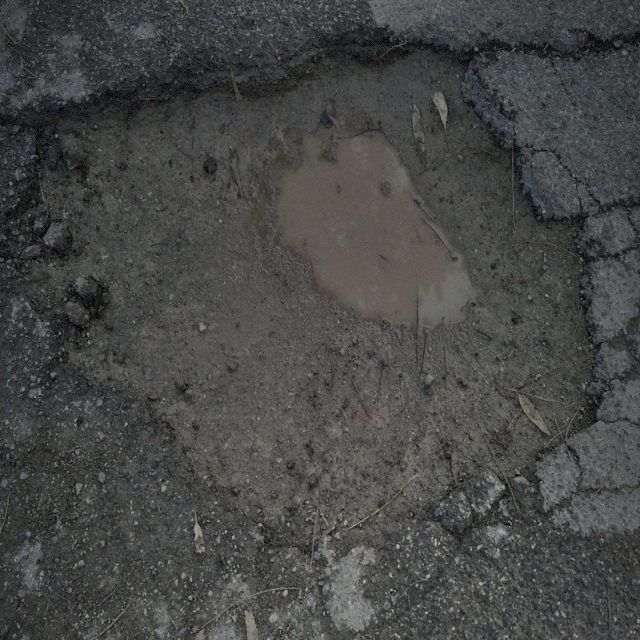pothole: (13, 22, 610, 557)
